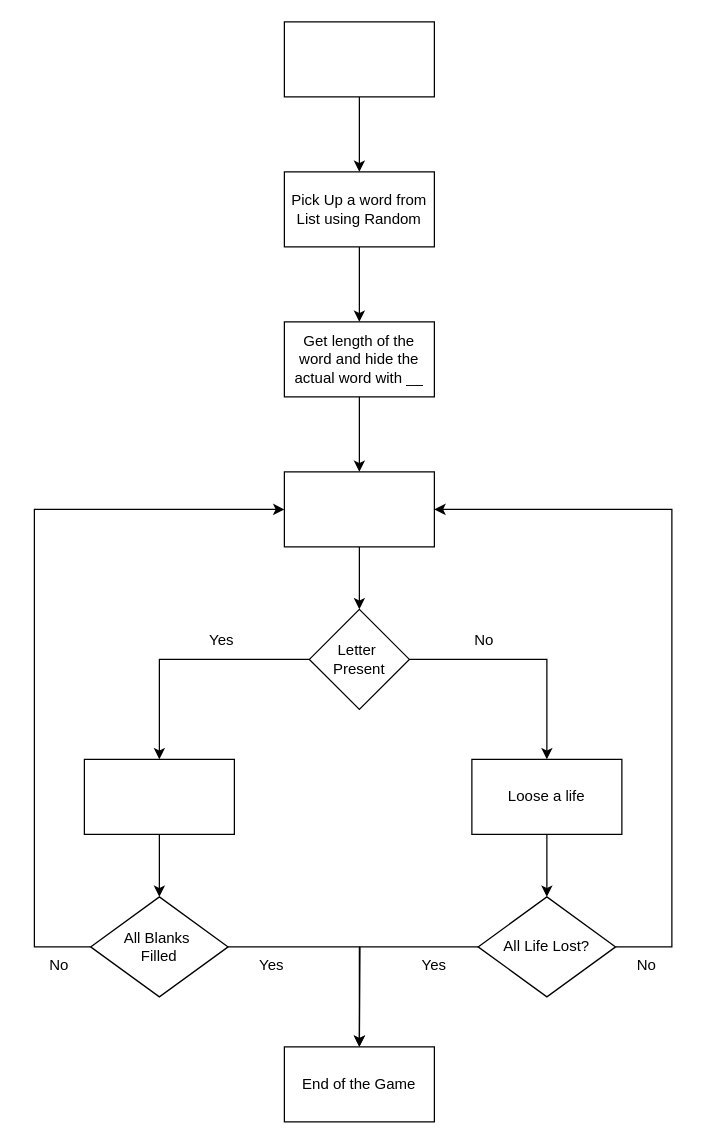
Some shapes in this 705 by 1144 pixel diagram are drawn without their labels. Here are the shapes that lost their labels. From the top down, the centre of each, then its label:
the point at 358,59: List with Random Words
the point at 358,509: Input (Get a letter from User)
the point at 158,796: Replace the letter in space
